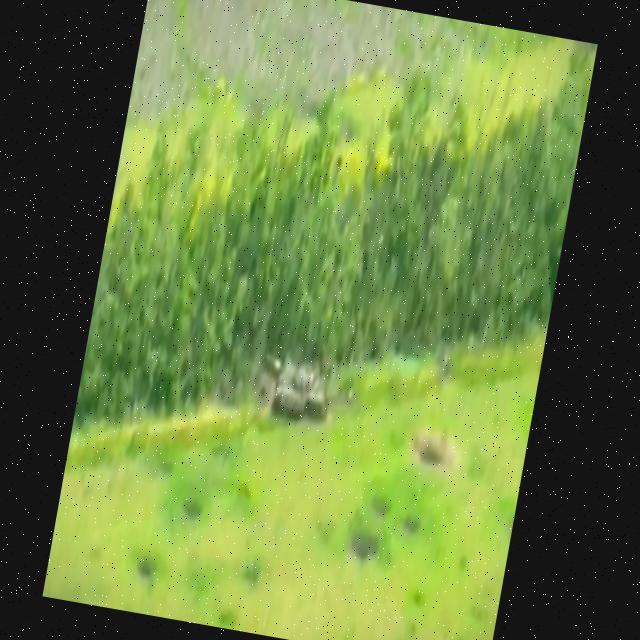MBT: (256, 348, 337, 425)
